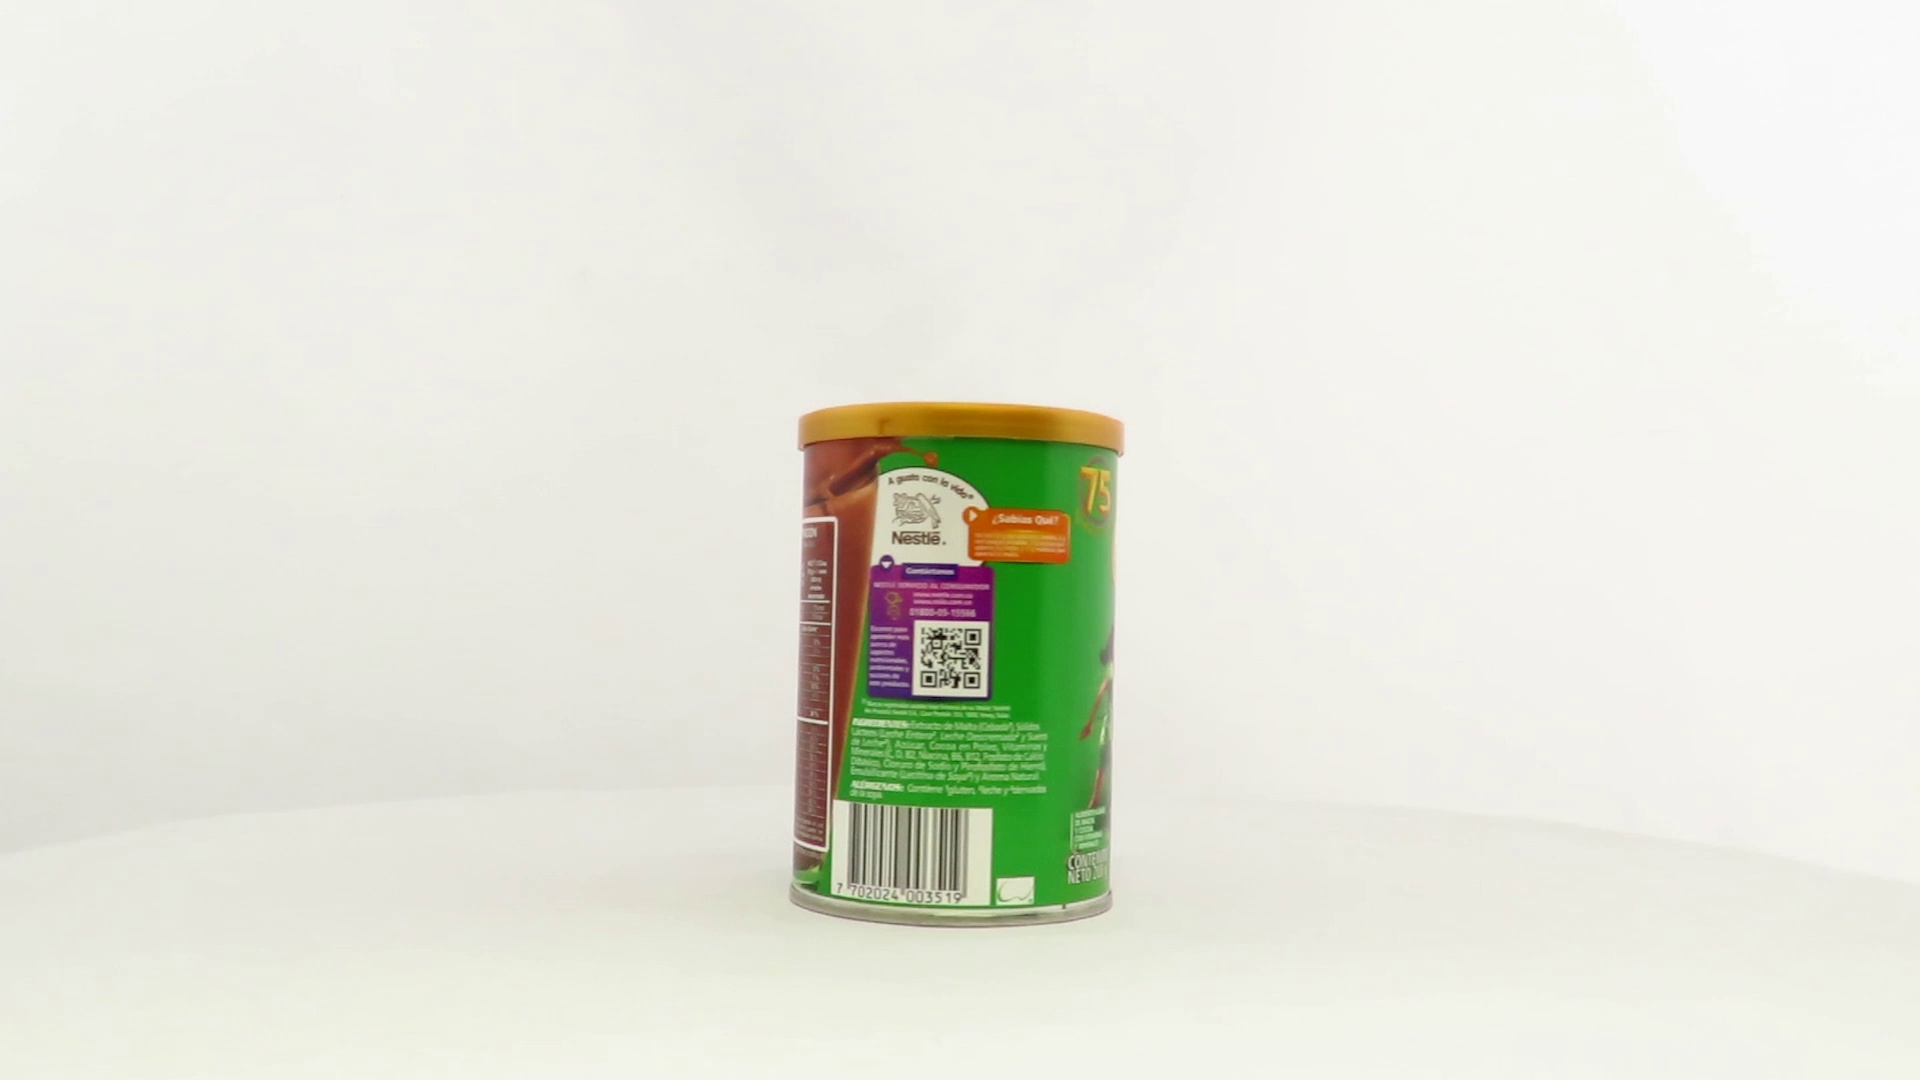COL0170203LAT20000: (783, 396, 1131, 935)
